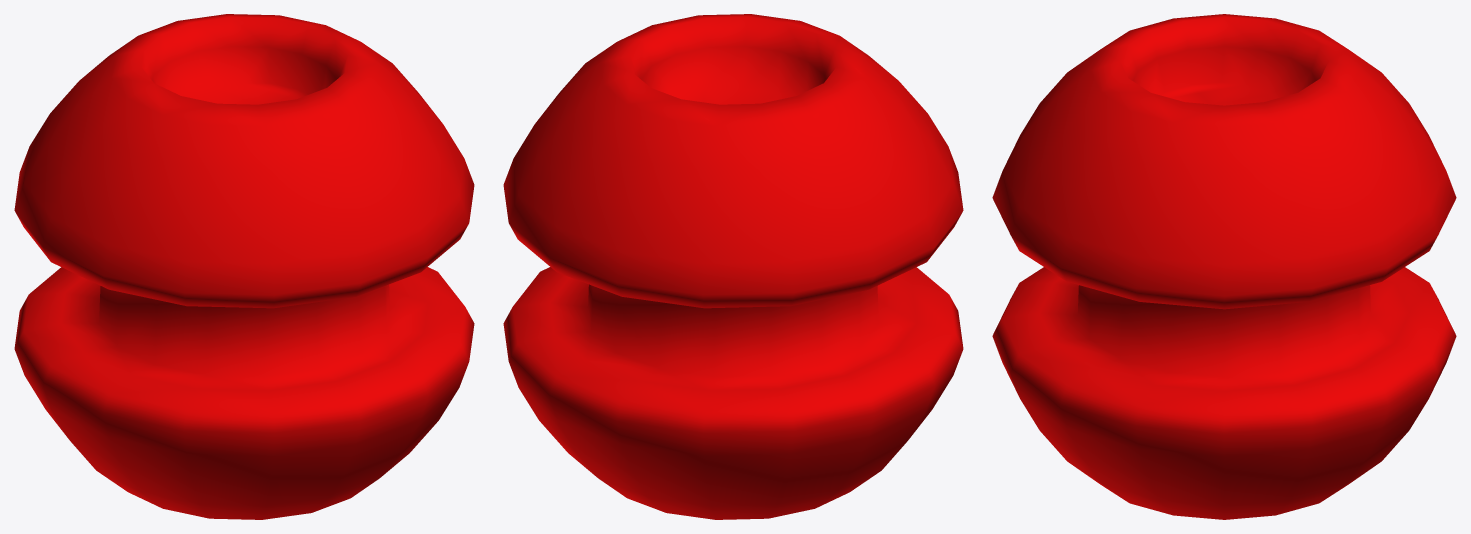
The model's file is BC_sphereMedPoly_export.fbx.
3 views of the same model, side by side, from view 1: azimuth 30°, elevation 25°; view 2: azimuth 150°, elevation 25°; view 3: azimuth 270°, elevation 25° (orthographic).
Parts seen in each view (by area): view 1: sphereMedium; view 2: sphereMedium; view 3: sphereMedium.
Boxes of the visible parts, <box> form: sphereMedium: <box>14,14,474,519</box>; sphereMedium: <box>503,14,963,519</box>; sphereMedium: <box>992,14,1456,519</box>.
Bounding box in the file's own units: 43.69 × 42.66 × 43.69.
